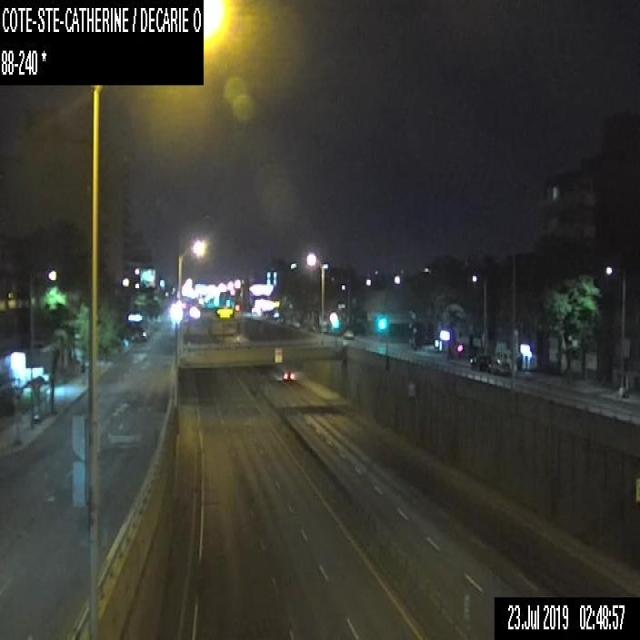vehicle: (469, 353, 488, 370), (489, 359, 509, 372), (282, 370, 294, 380)
